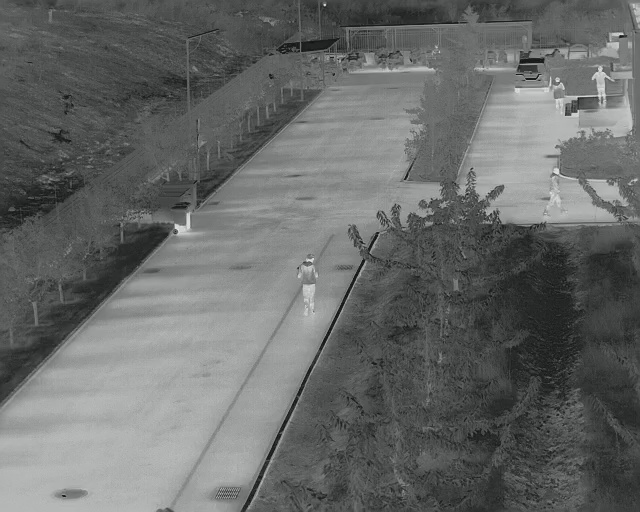person: (296, 252, 321, 319), (543, 165, 569, 218), (591, 64, 616, 110), (550, 76, 567, 115)
vehicle: (513, 58, 551, 96)
